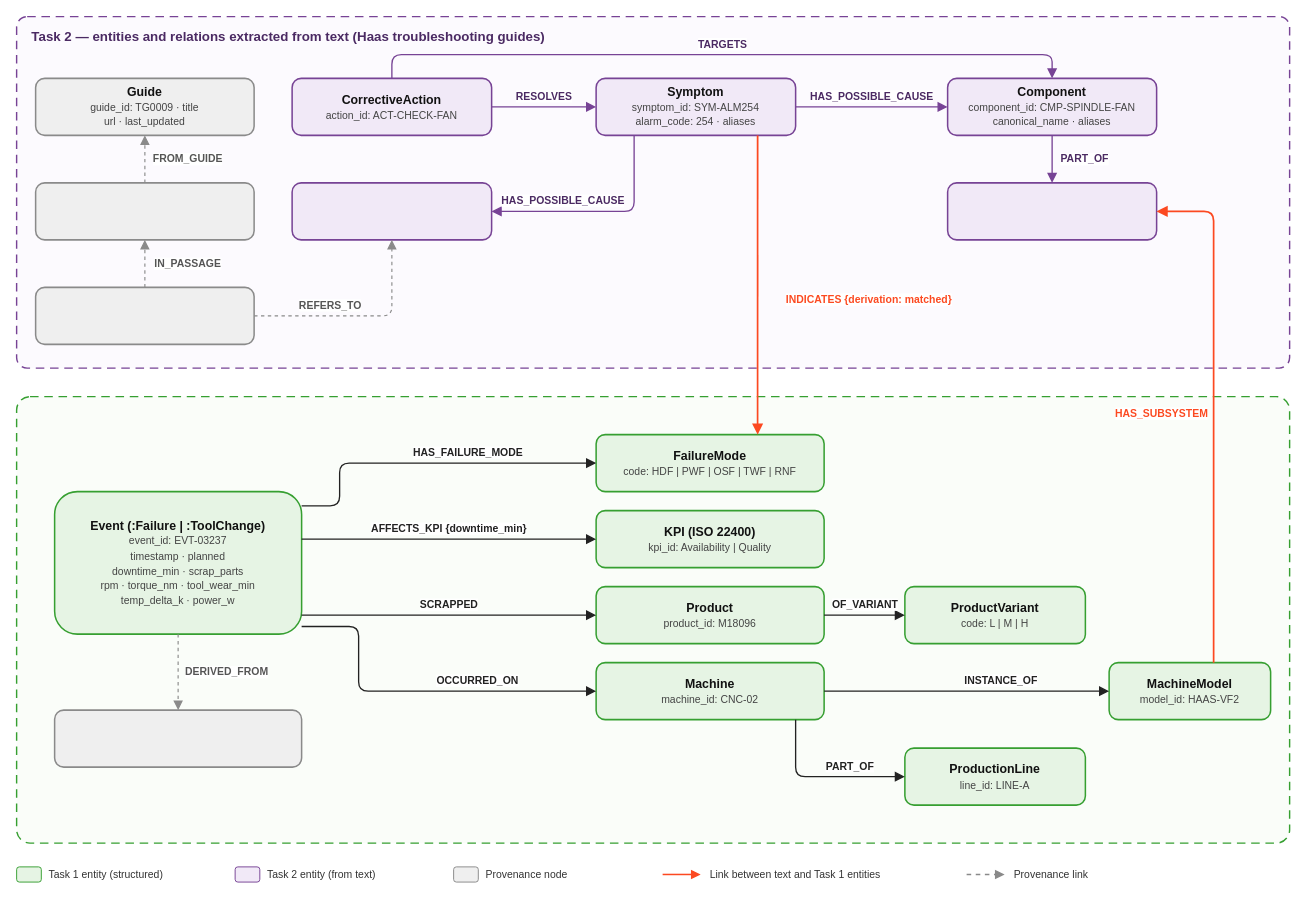
The diagram is 1307 pixels wide and 903 high, and some of its shapes have lost their labels. Here are the shapes that lost their labels. From the top down, the box of each, then its label:
(34, 182, 254, 240): Passage passage_id: TG0009-R2 text · retrieved_at
(291, 182, 492, 240): Cause cause_id: CAU-AGGR-PROGRAM kind: operating condition
(946, 182, 1157, 240): Subsystem subsystem_id: SUB-SPINDLE spindle | coolant | electrical
(34, 286, 254, 345): Mention text: 'aggressive program' status: MATCHED | UNRESOLVED
(15, 395, 1290, 843): Task 1 — structured records (AI4I 2020 + constructed events)
(53, 709, 302, 767): SourceRecord udi: 3237 · file · row
